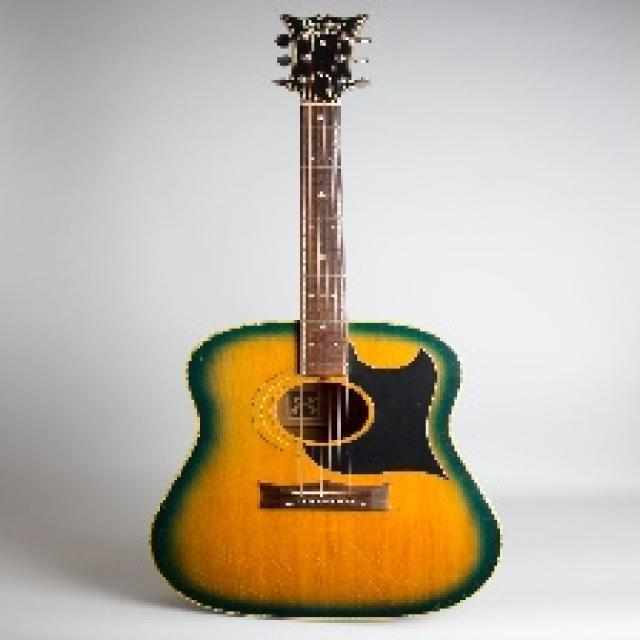acousticguitar: (151, 15, 499, 616)
